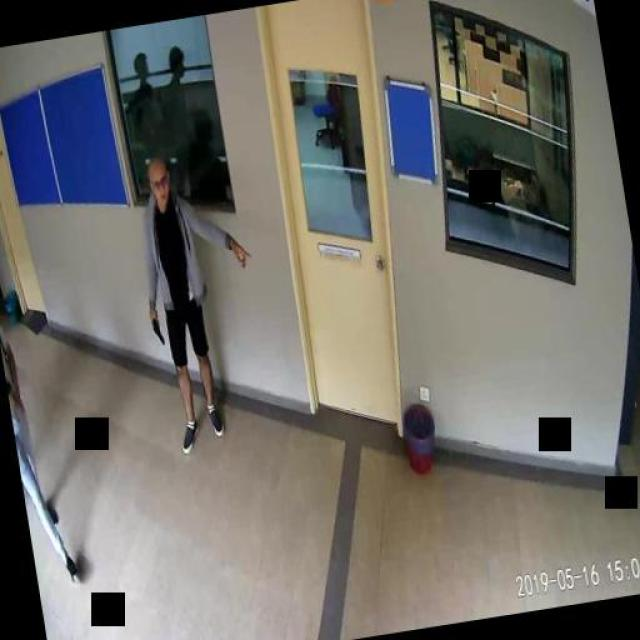gun: (146, 310, 162, 345)
